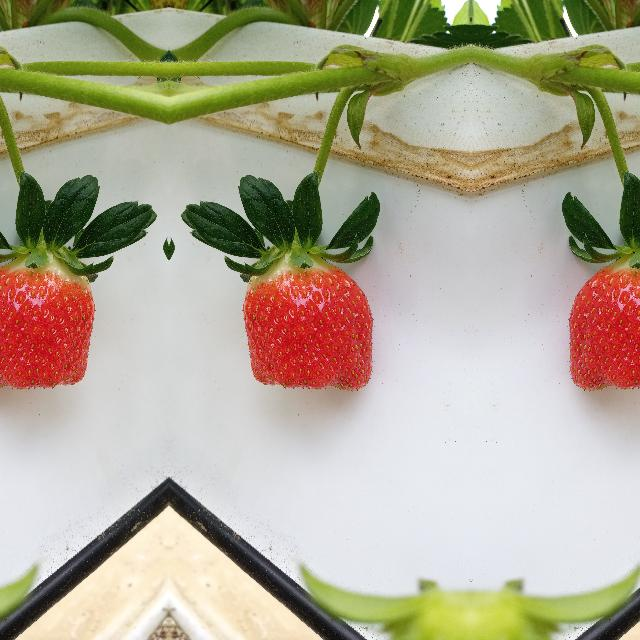Health_100: (240, 249, 374, 391), (0, 249, 96, 391), (567, 249, 640, 391)
